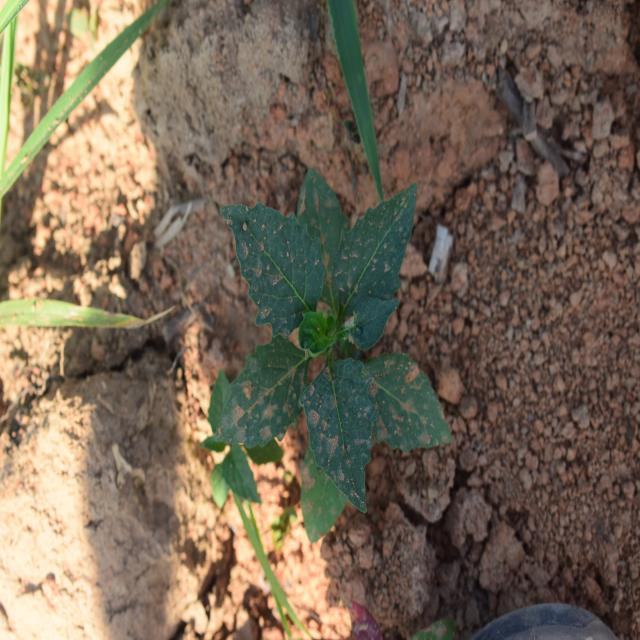Black_nightshade: (207, 175, 452, 488)
